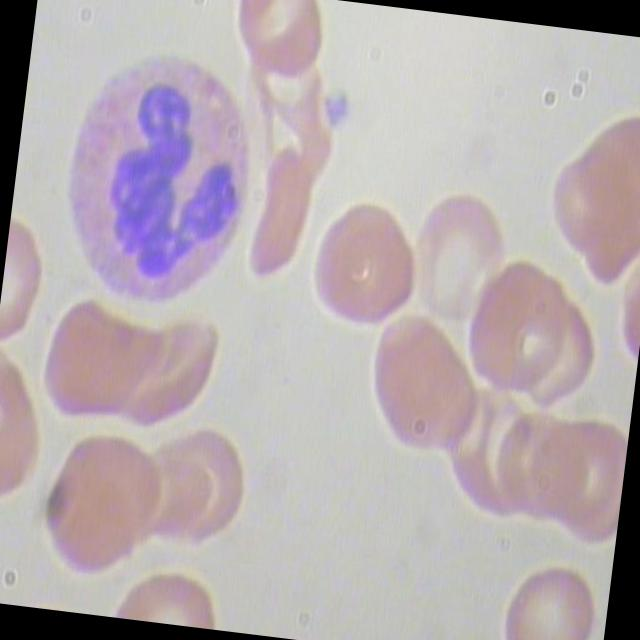Platelets: (317, 79, 364, 134)
RBC: (359, 308, 492, 470), (358, 305, 490, 466), (454, 259, 579, 409), (298, 200, 426, 335), (30, 292, 148, 436), (35, 448, 154, 584), (408, 189, 513, 329), (110, 316, 224, 442), (152, 429, 258, 555), (488, 404, 586, 534), (539, 142, 637, 271), (516, 292, 614, 421), (240, 143, 323, 290), (225, 0, 336, 91), (497, 557, 605, 640)
WBC: (51, 36, 274, 328)
